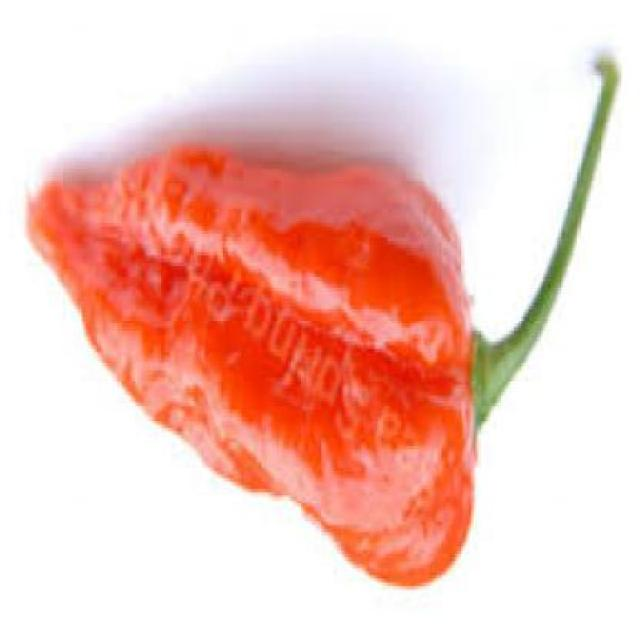BIODEGRADABLE: (30, 60, 618, 585)
